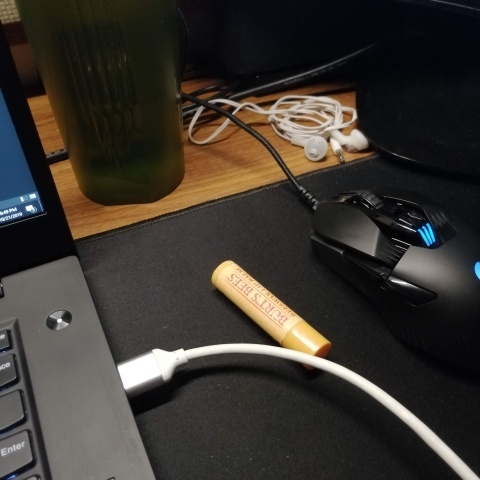chapstick: (210, 258, 333, 369)
